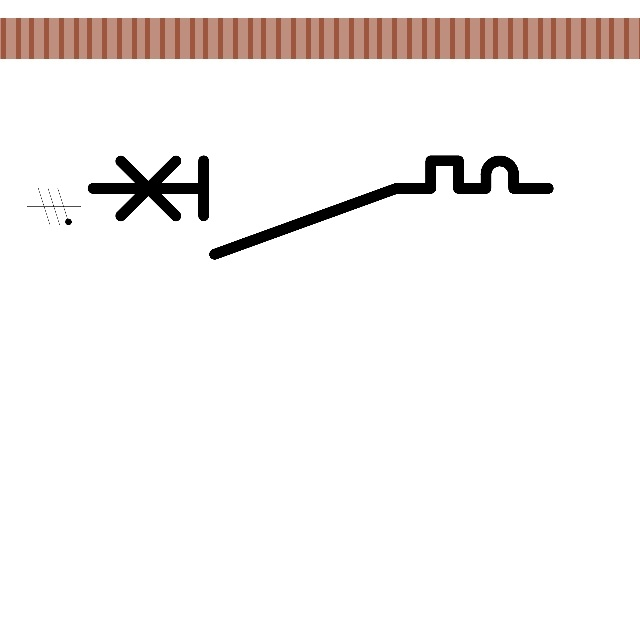interruptor_termomagnetico: (81, 149, 560, 266)
